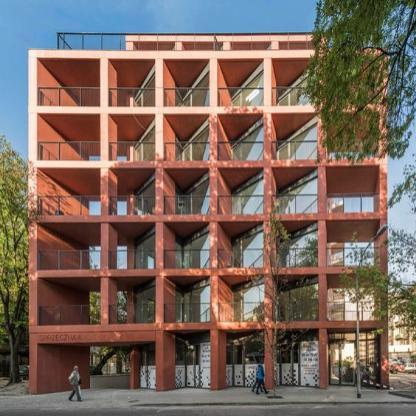Balcony: (56, 32, 378, 51), (38, 251, 101, 271), (39, 305, 101, 325), (38, 197, 100, 216), (38, 88, 100, 107), (39, 143, 101, 161), (326, 302, 381, 321), (326, 194, 379, 213), (327, 248, 380, 267), (327, 141, 378, 160), (326, 87, 379, 105), (109, 197, 156, 216), (109, 88, 155, 107), (163, 88, 209, 107), (109, 306, 155, 325), (164, 304, 209, 323), (271, 142, 318, 160), (108, 251, 155, 269), (271, 196, 318, 214), (218, 88, 264, 106), (109, 143, 155, 161), (273, 250, 319, 268), (218, 304, 264, 322), (273, 303, 319, 321), (218, 250, 264, 268), (272, 87, 317, 105), (218, 143, 263, 161), (164, 143, 209, 161), (164, 197, 209, 215), (218, 196, 263, 214), (164, 250, 209, 268)
Building Outline: (27, 31, 390, 394)
Deco: (38, 335, 83, 343)
Door: (36, 342, 156, 395), (326, 329, 381, 389), (164, 331, 211, 391), (218, 330, 264, 390), (273, 329, 319, 389), (340, 343, 355, 385)
Facade: (27, 31, 390, 396)
Floor Slab: (29, 324, 386, 330), (29, 51, 386, 57), (29, 160, 386, 166), (29, 216, 386, 222), (29, 270, 386, 276), (29, 108, 386, 114)
Glass Wall: (330, 332, 380, 385), (277, 125, 317, 177), (279, 73, 316, 129), (232, 71, 264, 127), (279, 179, 317, 225), (281, 340, 319, 386), (232, 125, 263, 177), (281, 232, 318, 274), (232, 176, 263, 225), (234, 340, 264, 387), (281, 283, 318, 321), (184, 73, 209, 128), (232, 230, 263, 274), (183, 126, 209, 178), (182, 231, 209, 274), (234, 284, 264, 322), (184, 178, 209, 223), (187, 342, 210, 388), (136, 73, 155, 128), (135, 127, 155, 177), (184, 286, 210, 323), (136, 179, 155, 224), (136, 234, 155, 274), (139, 346, 156, 389), (136, 286, 155, 324), (176, 341, 185, 389), (226, 342, 233, 387), (176, 290, 184, 323), (176, 190, 183, 223), (275, 342, 280, 386), (176, 92, 182, 128), (176, 142, 182, 178), (176, 243, 181, 274)
Window: (37, 58, 101, 107), (37, 114, 101, 161), (37, 169, 101, 216), (37, 277, 101, 324), (37, 224, 101, 270), (325, 58, 379, 107), (326, 221, 380, 269), (327, 275, 381, 322), (325, 114, 379, 161), (325, 167, 379, 214), (108, 58, 156, 107), (163, 58, 210, 107), (217, 58, 264, 107), (271, 58, 318, 107), (108, 114, 156, 161), (108, 169, 156, 216), (108, 277, 156, 324), (163, 114, 210, 161), (271, 114, 318, 161), (163, 168, 210, 215), (218, 168, 265, 215), (272, 167, 319, 214), (164, 277, 211, 324), (218, 114, 264, 161), (109, 224, 156, 270), (218, 276, 264, 323), (273, 275, 319, 322), (218, 223, 264, 269), (165, 223, 210, 269), (273, 221, 318, 267), (279, 42, 321, 67), (134, 42, 176, 67), (230, 42, 272, 67), (182, 42, 223, 67)
